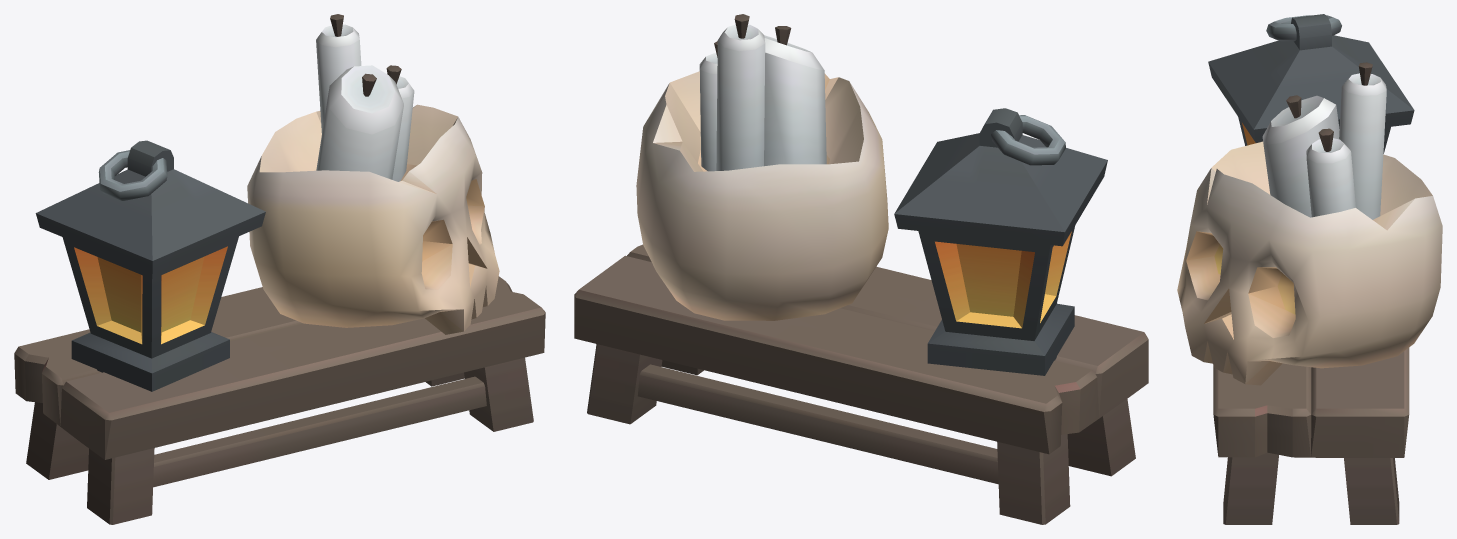
File: kay-banco-cemiterio.gltf
The picture shows the model from 3 angles, left to right: view 1: azimuth 30°, elevation 25°; view 2: azimuth 150°, elevation 25°; view 3: azimuth 270°, elevation 25°; orthographic projection. The views are drawn at different scales.
Visible parts, largest first — view 1: bench_decorated; view 2: bench_decorated; view 3: bench_decorated.
Boxes of the visible parts, left/top/right/bottom form: bench_decorated: left=14, top=14, right=545, bottom=524; bench_decorated: left=574, top=14, right=1148, bottom=524; bench_decorated: left=1177, top=14, right=1442, bottom=524.
Bounding box in the file's own units: 1 × 0.8386 × 0.5085.
1 material, 1 textured.
